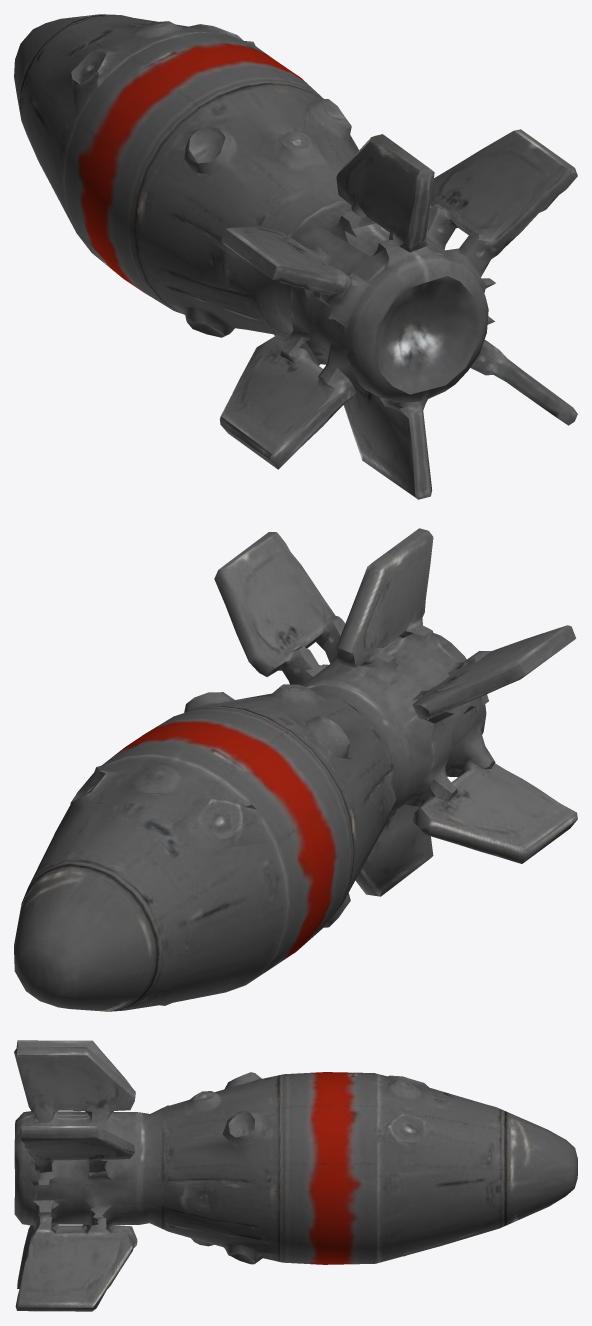
The picture shows the model from 3 angles, top to bottom: view 1: azimuth 30°, elevation 25°; view 2: azimuth 150°, elevation 25°; view 3: azimuth 270°, elevation 25°; orthographic projection. The views are drawn at different scales.
Parts seen in each view (by area): view 1: body; view 2: body; view 3: body.
Boxes of the visible parts, box(x1,y1,x2,y2) form: body: box(14, 14, 577, 499); body: box(14, 528, 577, 1011); body: box(14, 1040, 577, 1311).
Size of the model in its own units: 0.3461 by 0.3506 by 0.7495.
1 material, 1 textured.
